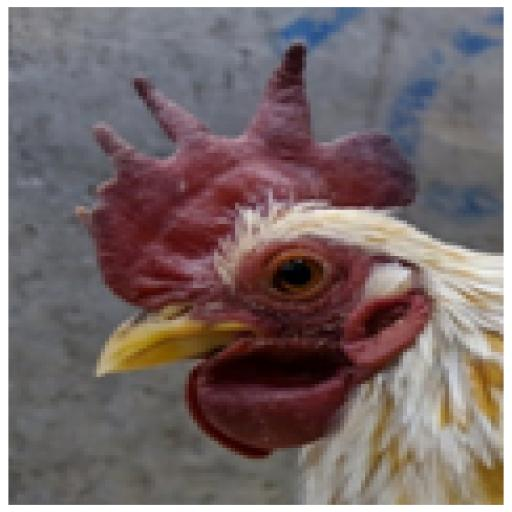disease: (43, 32, 426, 218)
